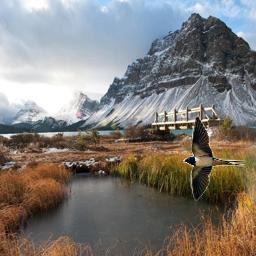Swallow: (183, 115, 247, 202)
